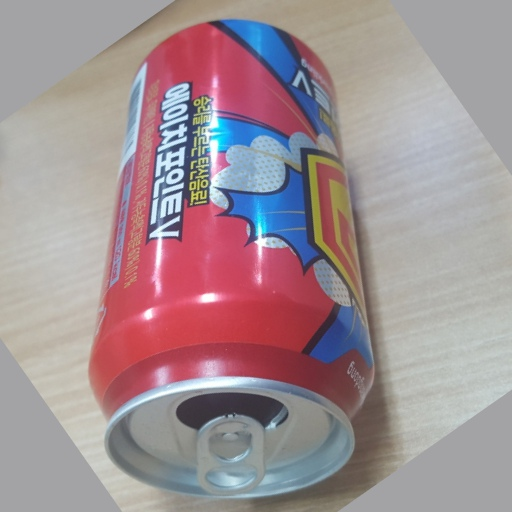Metal_0: (89, 17, 379, 501)
